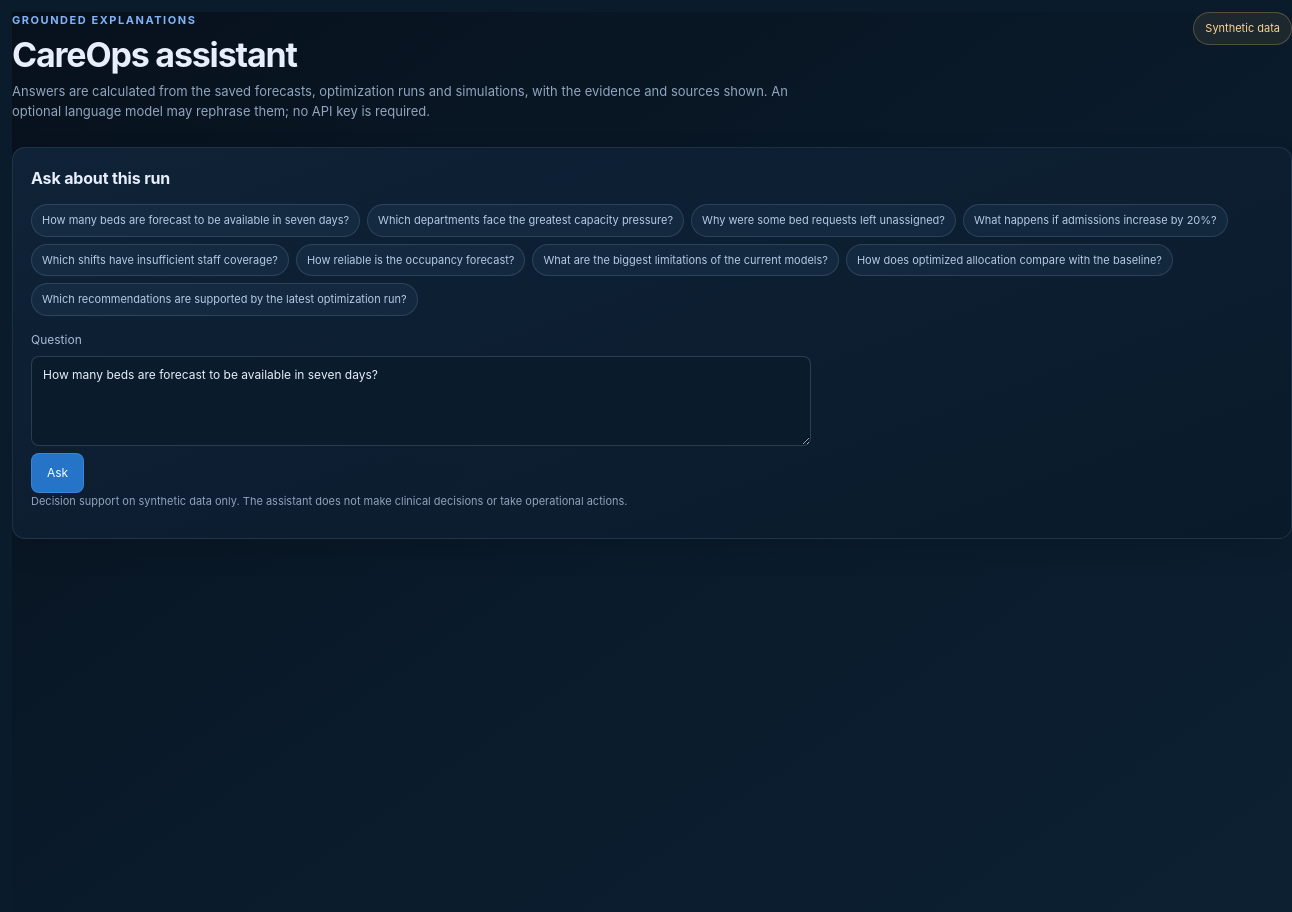
Test: AssistantAnswerCard › reports assistant API errors
The width and height of the screenshot is (1292, 912).
Click the button "Ask" at coordinates (58, 473), box x1=31 y1=453 x2=84 y2=493
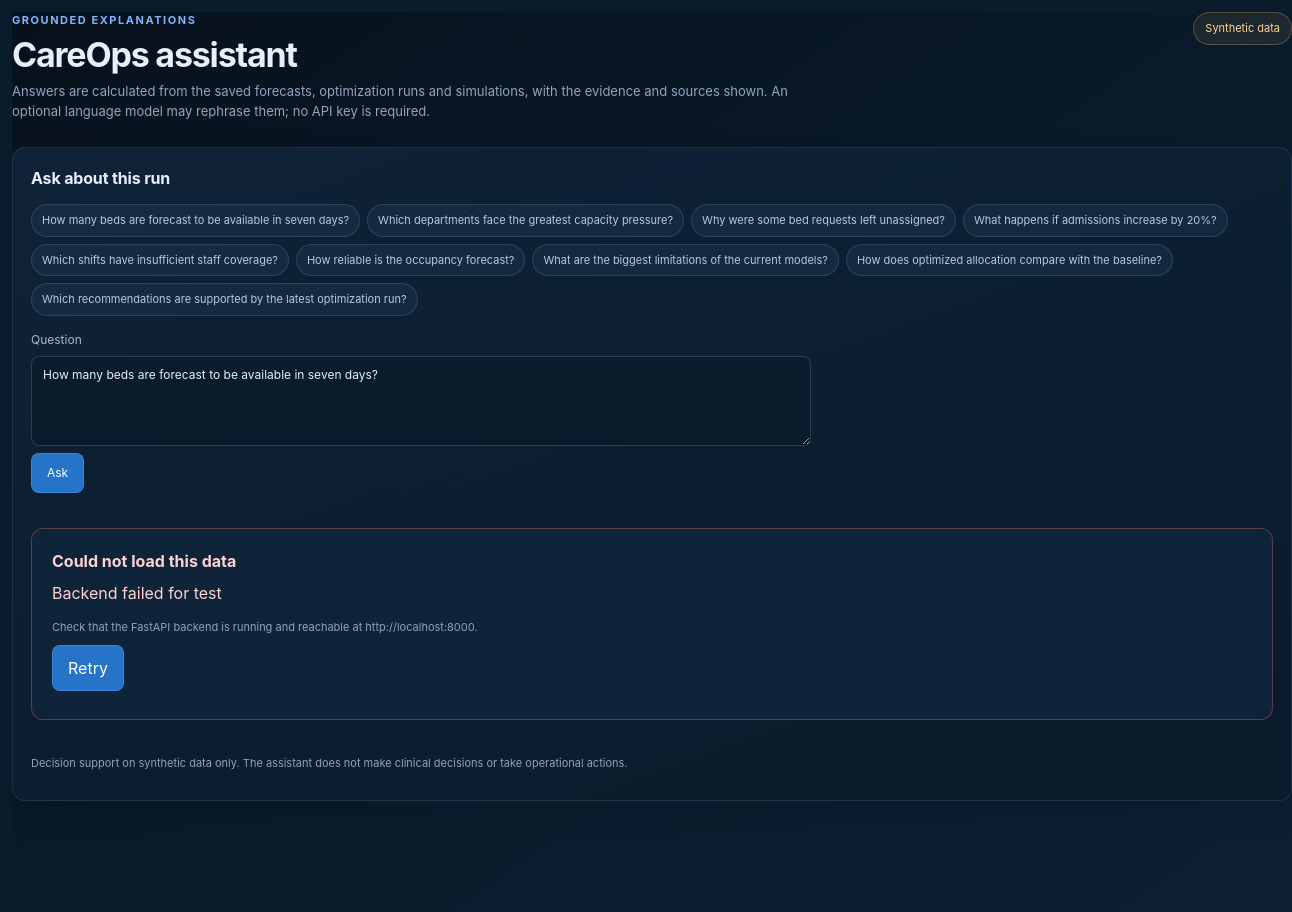
Result: the message shows "Backend failed for test" at x1=52 y1=583 x2=222 y2=603
